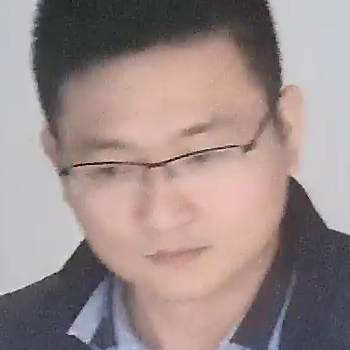gg: (24, 38, 331, 308)
